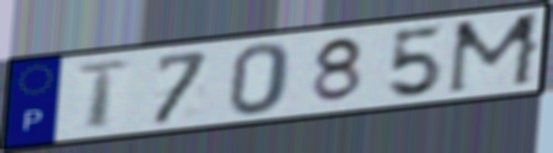0: (225, 40, 294, 118)
5: (384, 22, 450, 99)
7: (151, 48, 212, 126)
8: (308, 35, 364, 105)
M: (443, 10, 546, 98)
T: (72, 58, 136, 131)
